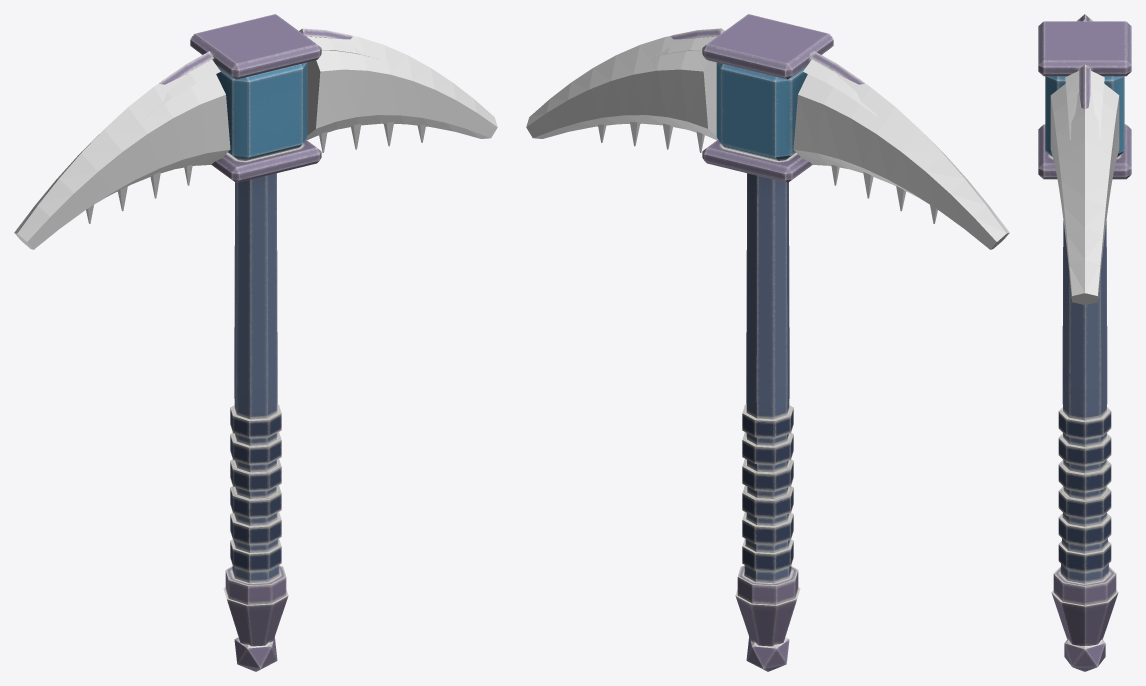
Rendered from FrostquartzPickaxe.glb.
The picture shows the model from 3 angles, left to right: view 1: azimuth 30°, elevation 25°; view 2: azimuth 150°, elevation 25°; view 3: azimuth 270°, elevation 25°; orthographic projection.
Parts seen in each view (by area): view 1: Body__Tex, Head__Crystal, Head__Accent, Head__Gem; view 2: Body__Tex, Head__Crystal, Head__Accent, Head__Gem; view 3: Body__Tex, Head__Crystal, Head__Accent.
Part boxes in pixels (x1,y1,x2,y2): Body__Tex: (159, 14, 353, 671); Head__Crystal: (14, 36, 497, 249); Head__Accent: (147, 36, 379, 115); Head__Gem: (86, 121, 425, 223); Body__Tex: (670, 14, 864, 671); Head__Crystal: (526, 36, 1009, 249); Head__Accent: (644, 36, 876, 115); Head__Gem: (598, 121, 937, 223); Body__Tex: (1038, 14, 1131, 671); Head__Crystal: (1050, 14, 1119, 304); Head__Accent: (1065, 71, 1104, 140).
Size of the model in its own units: 3.19 by 4.04 by 0.54.
1 material, 1 textured.
